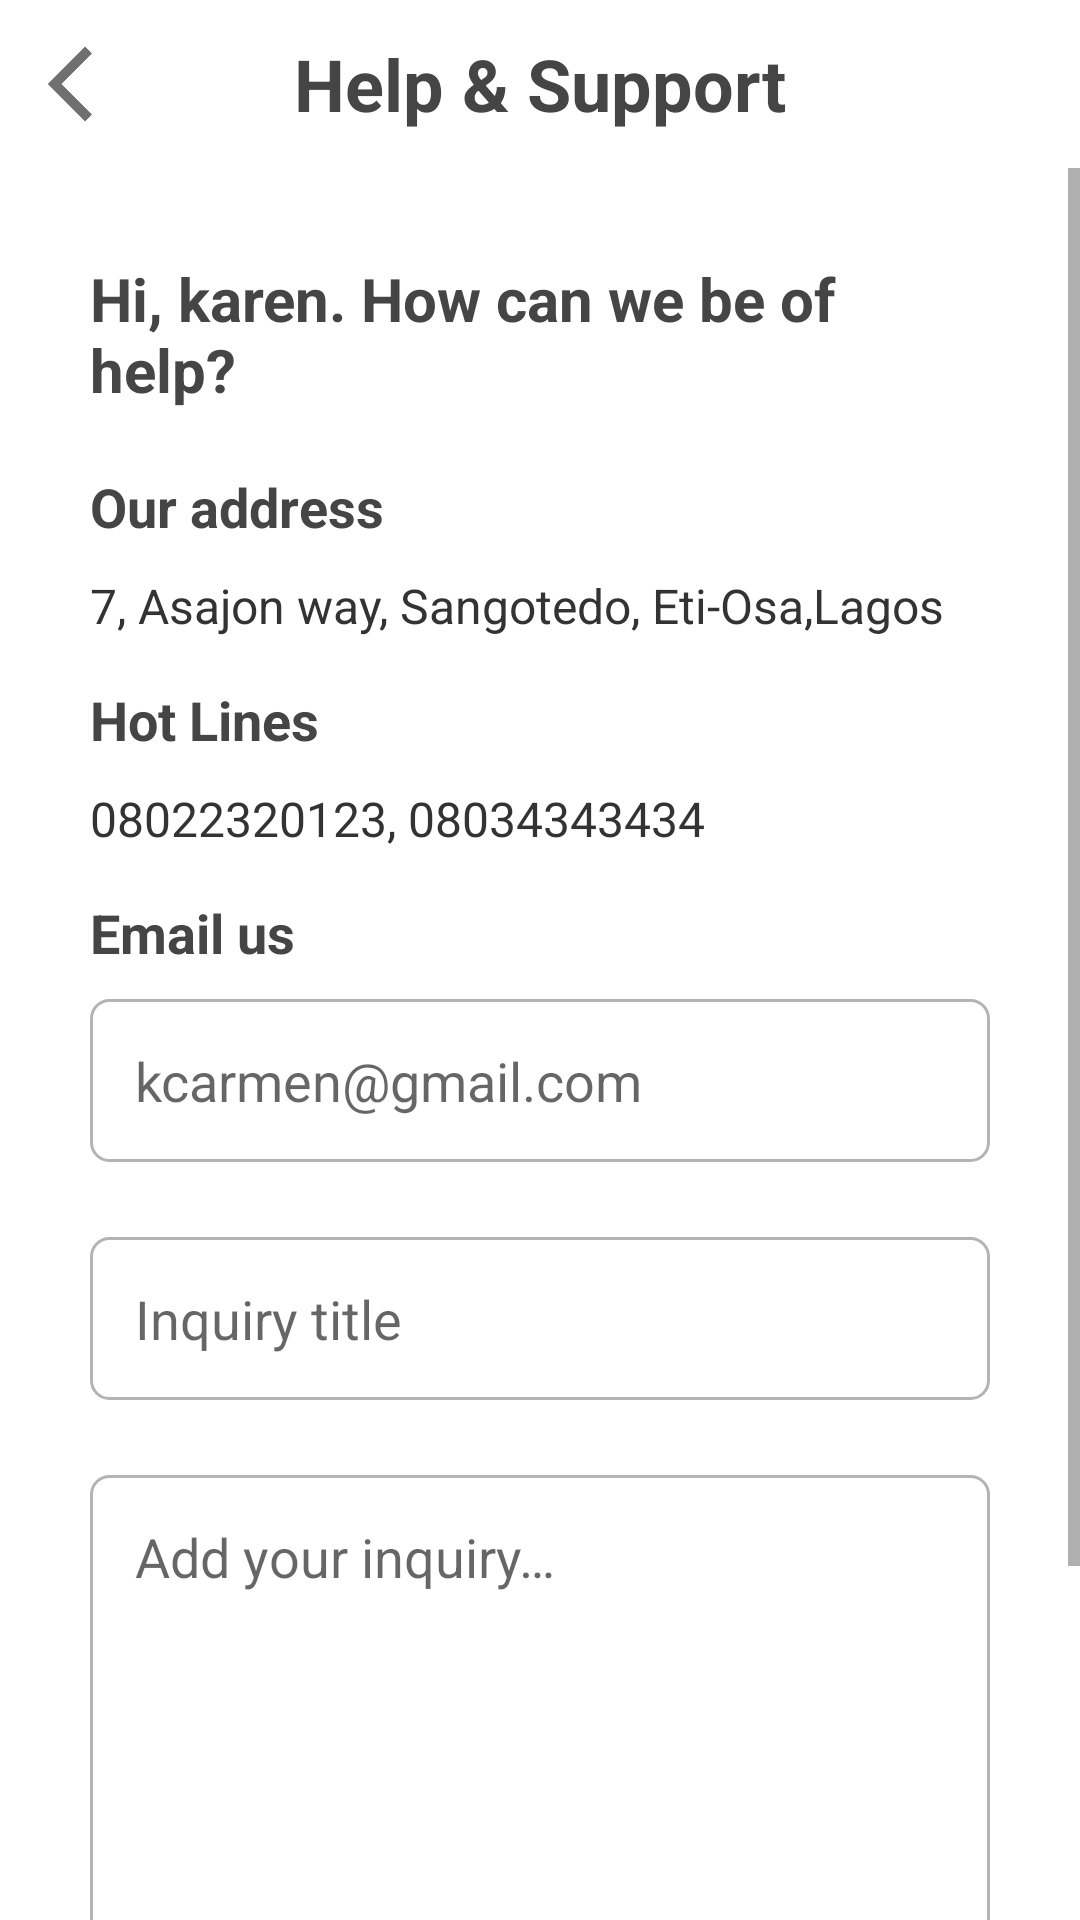

Where icons sit on this 1080*1920 app screen, as (x1, y1, x2, y2):
left arrow back: (48, 47, 92, 121)
